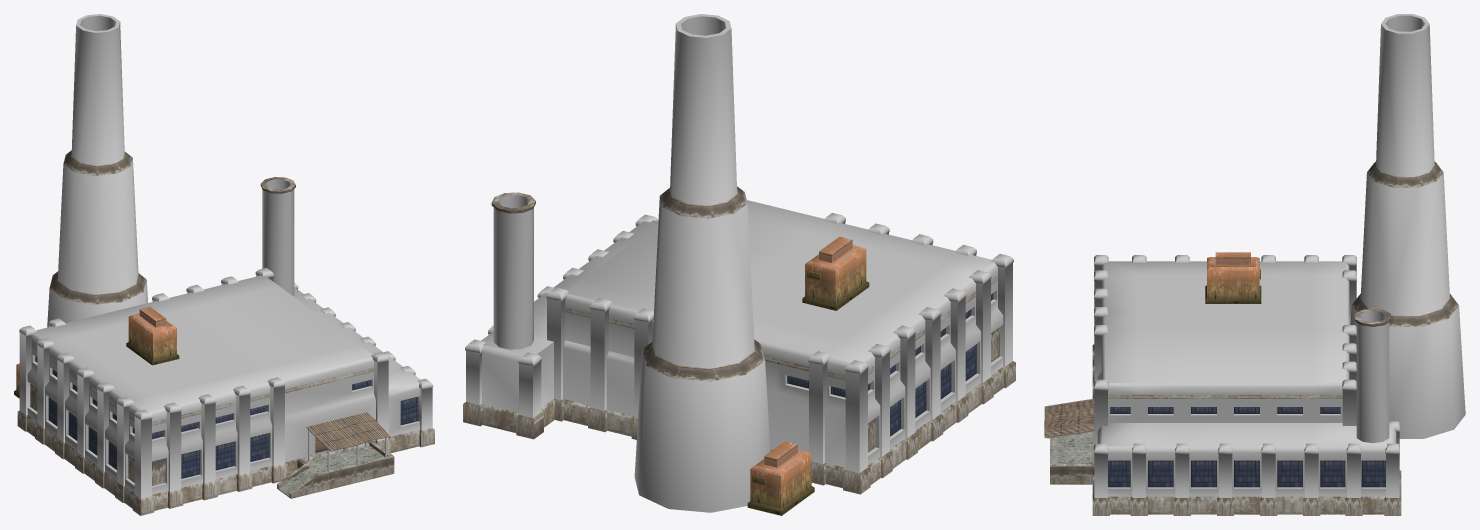
File: powerplant_lod1.fbx
3 views of the same model, side by side, from view 1: azimuth 30°, elevation 25°; view 2: azimuth 150°, elevation 25°; view 3: azimuth 270°, elevation 25° (orthographic). The views are drawn at different scales.
Visible parts, largest first — view 1: Mesh Object, Mesh Object_ncl1_1; view 2: Mesh Object, Mesh Object_ncl1_1; view 3: Mesh Object, Mesh Object_ncl1_1.
Part boxes in pixels (x1,y1,x2,y2): Mesh Object: (14,14,420,510); Mesh Object_ncl1_1: (17,268,434,515); Mesh Object: (481,14,1003,515); Mesh Object_ncl1_1: (463,213,1015,494); Mesh Object: (1097,14,1465,514); Mesh Object_ncl1_1: (1044,255,1401,515).
Bounding box in the file's own units: 27.69 × 32.54 × 31.76.
